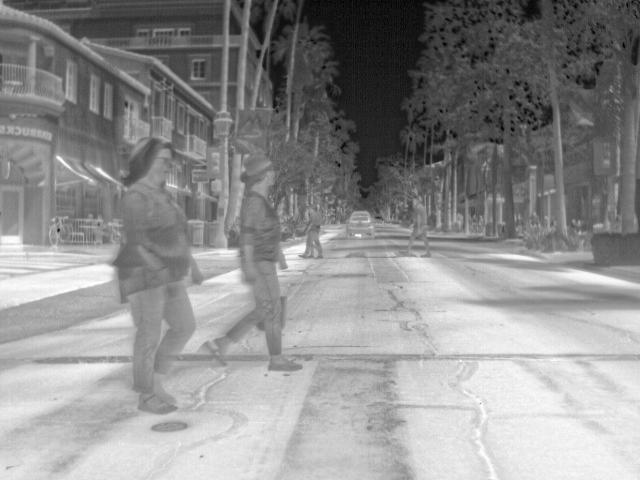car: (346, 210, 375, 238), (374, 215, 384, 224)
person: (112, 139, 205, 414), (204, 153, 302, 371), (400, 196, 432, 259), (299, 204, 324, 259), (529, 208, 545, 228), (468, 213, 482, 232), (514, 212, 527, 232)
